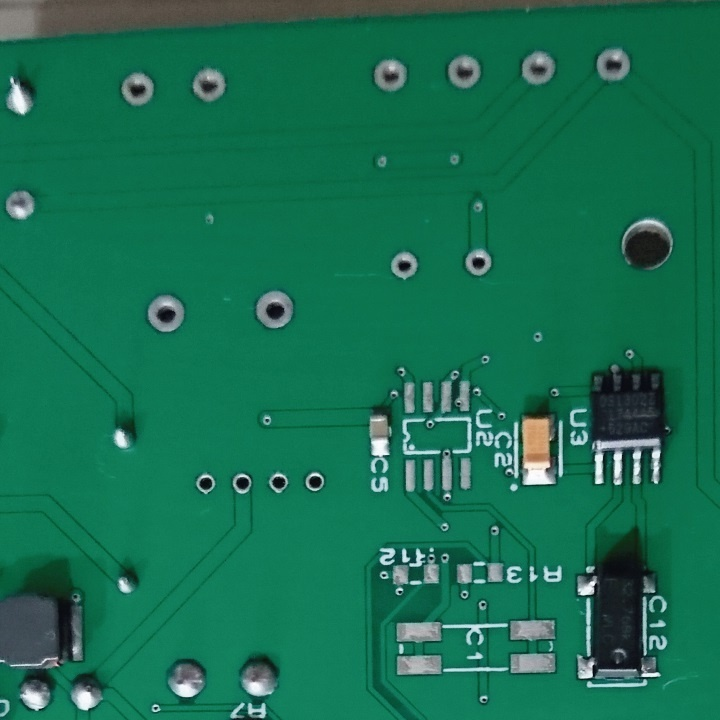F: (252, 286, 298, 333), (438, 49, 487, 92), (591, 43, 635, 88), (144, 293, 190, 335), (188, 62, 229, 109), (367, 55, 411, 98), (517, 49, 561, 89), (117, 69, 158, 111), (1, 185, 41, 223), (461, 248, 495, 279), (387, 250, 420, 281), (230, 470, 254, 499), (302, 467, 326, 496), (267, 469, 292, 495), (194, 469, 218, 496)
